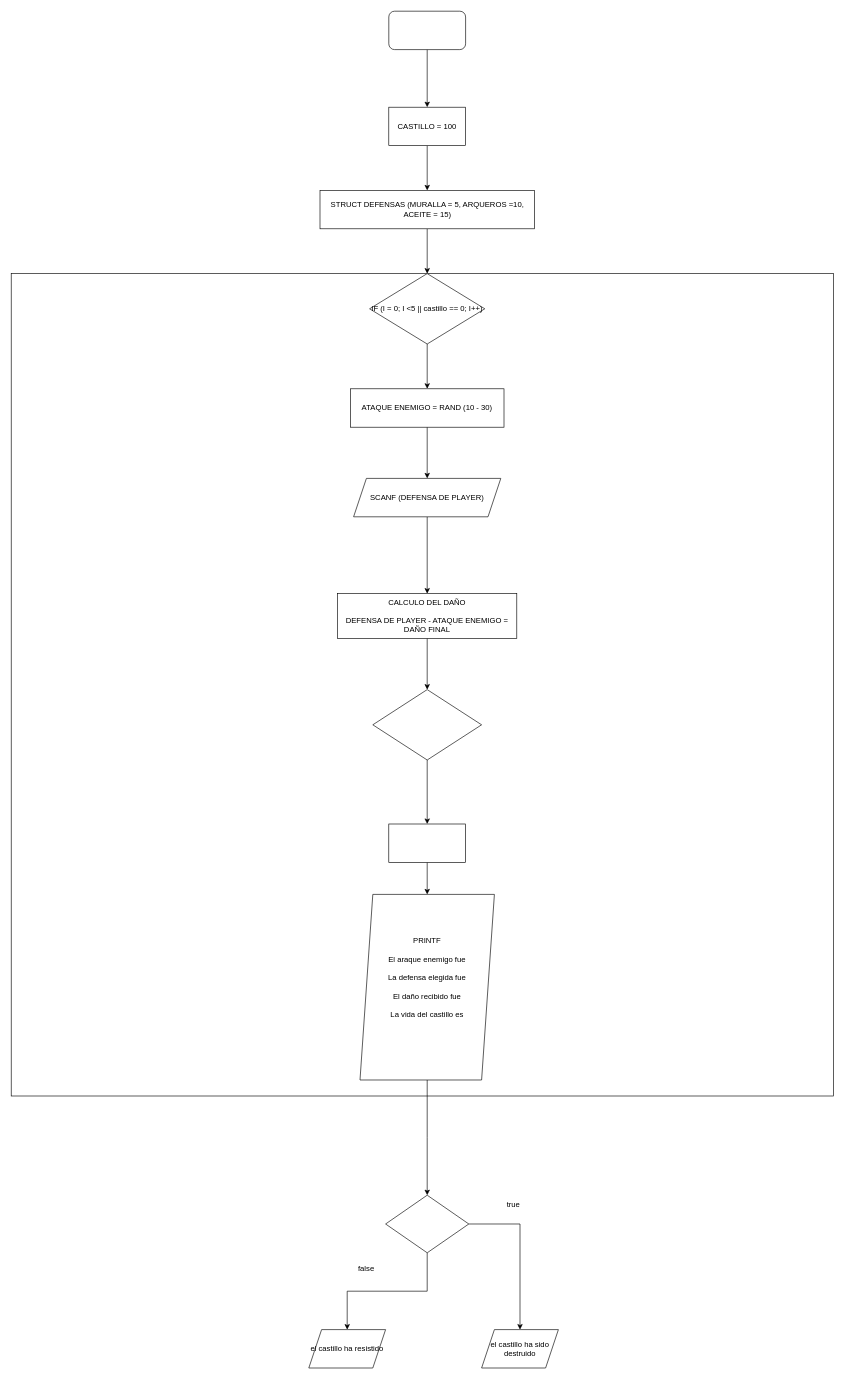
This 845x1379 diagram has some shape labels left out. Each missing label, with the box of its shape:
IF (DAÑO FINAL < 0): (372, 689, 482, 760)
if castillo == 0: (385, 1195, 469, 1253)
INICIO: (388, 11, 466, 50)
VIDA CASTILLO + DAÑO FINAL: (388, 823, 466, 862)
